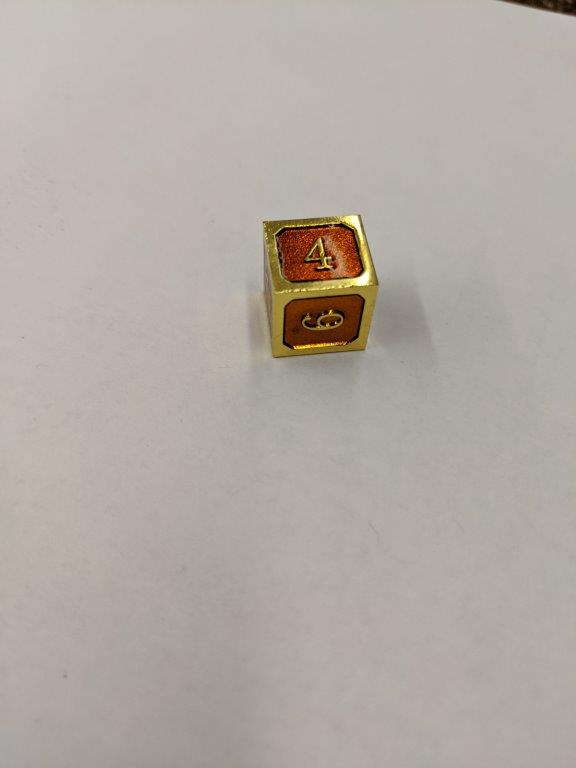d6-4: (258, 211, 379, 362)
